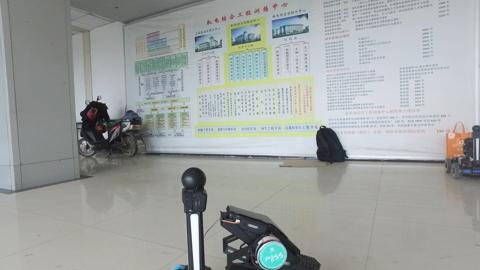bag: (312, 123, 349, 165), (445, 119, 472, 160)
chariot: (174, 165, 321, 270), (445, 125, 479, 179)
